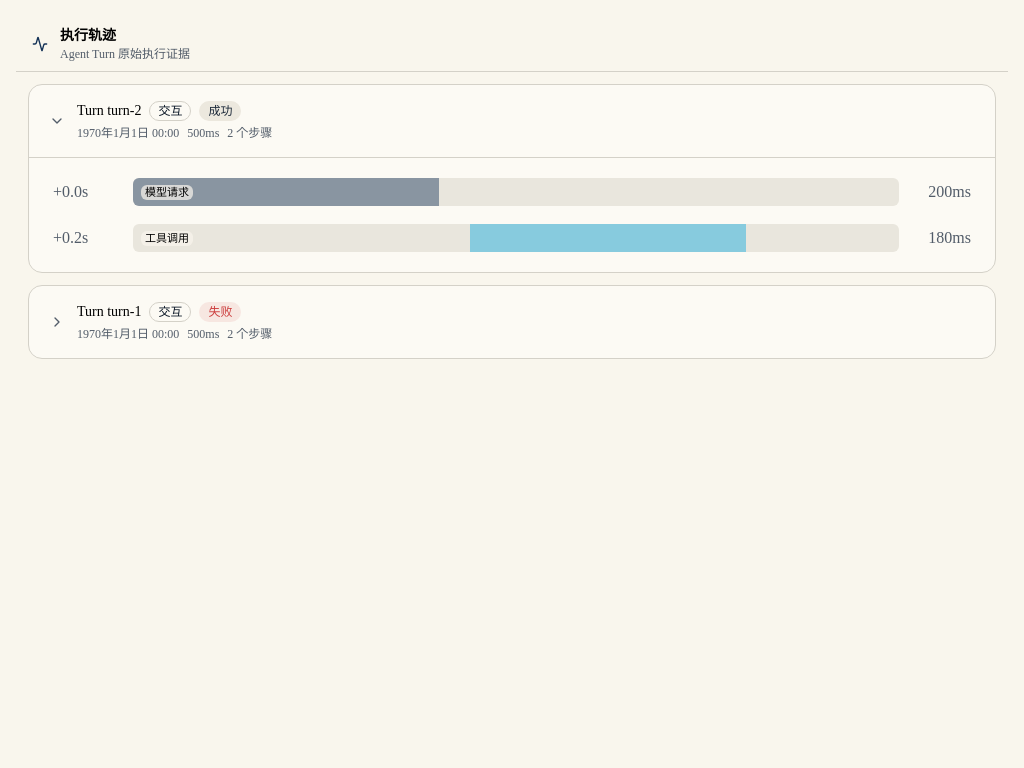
Test: executionTracePanel › 允许同时展开多个 Turn，点击步骤后才读取原始证据
This screenshot has width=1024, height=768.
Check: the text "Turn turn-2" is shown, box [77,101,142,121]
Click the button "Turn turn-1 交互 失败 1970年1月1日 00:00 500ms 2 个步骤" at (124, 312), box [37,294,987,350]
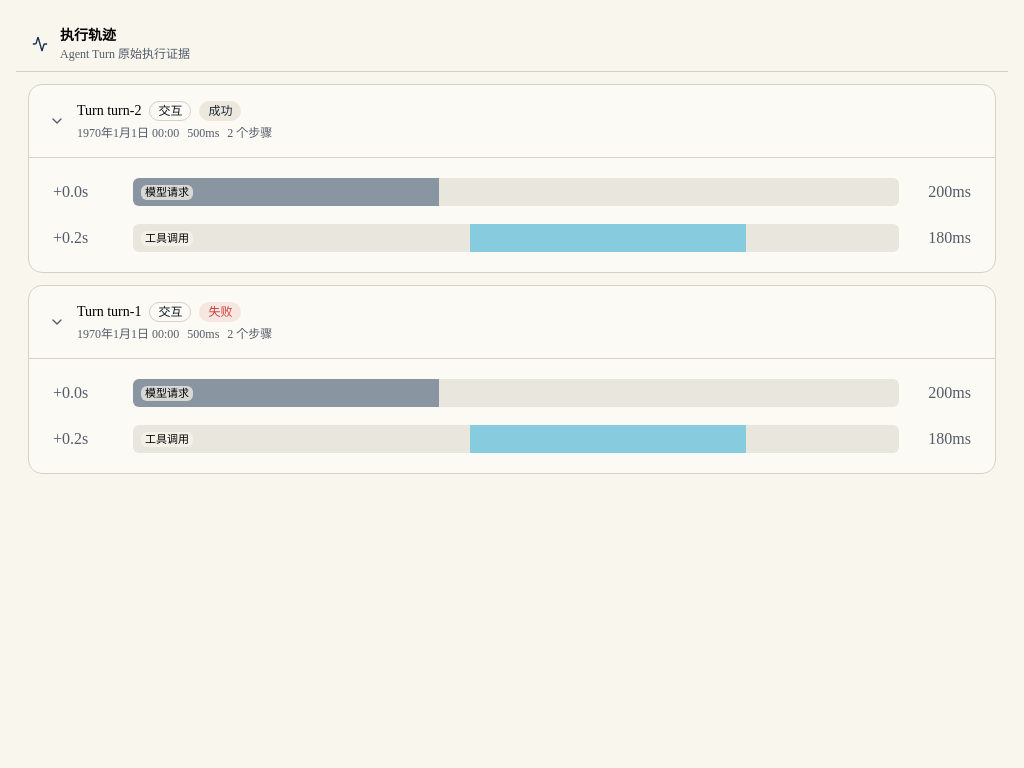
Check: the 1st text "工具调用" is shown, box [141,230,193,246]
Click the 1st button "+0.0s 模型请求 200ms" at (512, 192), box [41,170,983,214]
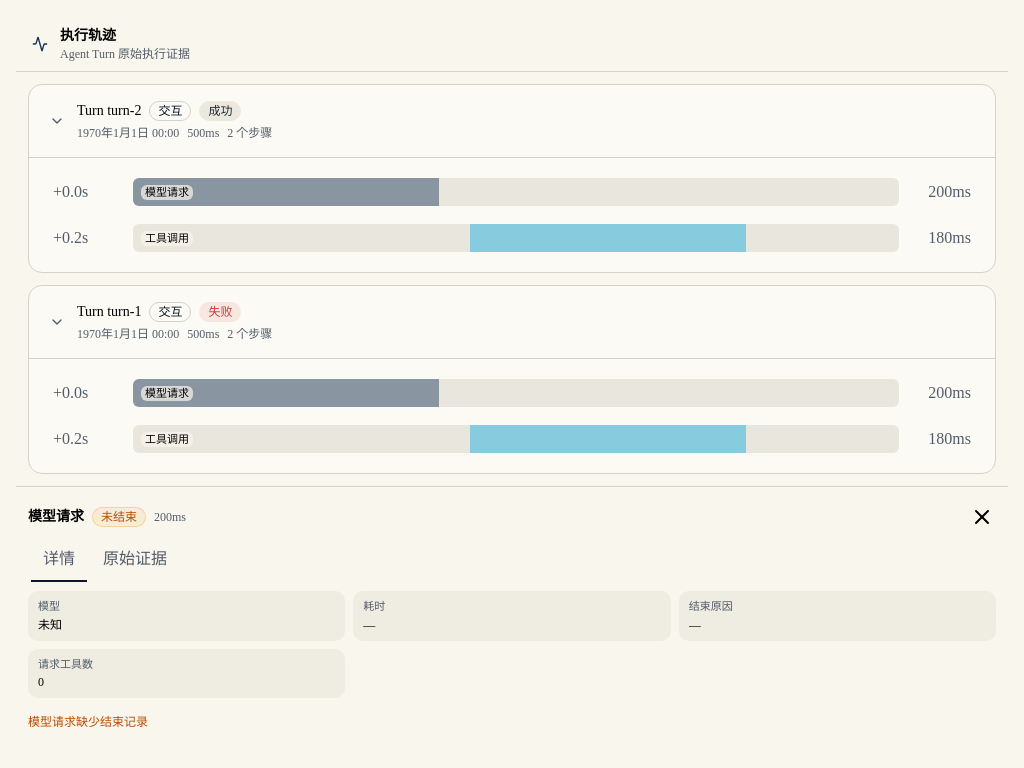
Click the tab "原始证据" at (135, 557), box [91,537,179,577]
(page scrolled)
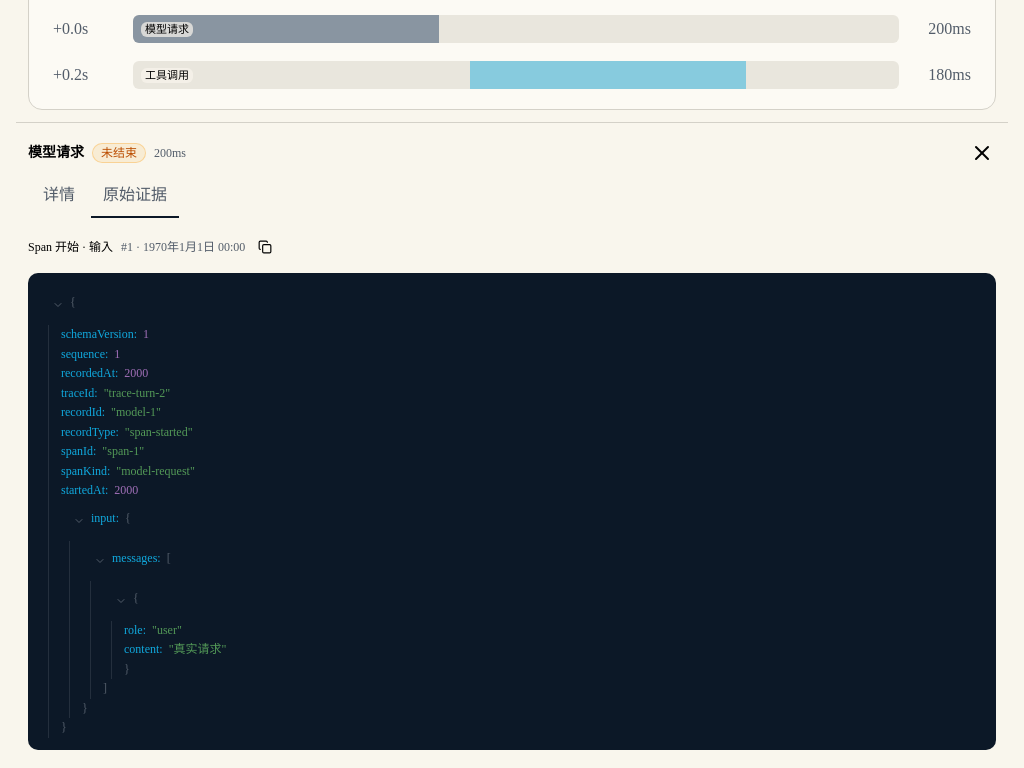
Check: the text "\"真实请求\"" is shown, box [169,640,226,660]
